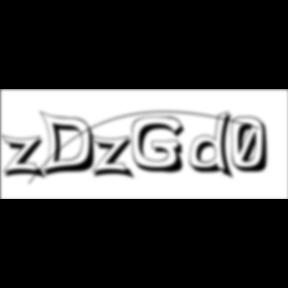0: (232, 115, 276, 174)
D: (40, 110, 102, 180)
G: (132, 116, 192, 176)
d: (189, 110, 239, 182)
z: (1, 134, 50, 182), (91, 134, 140, 182)
